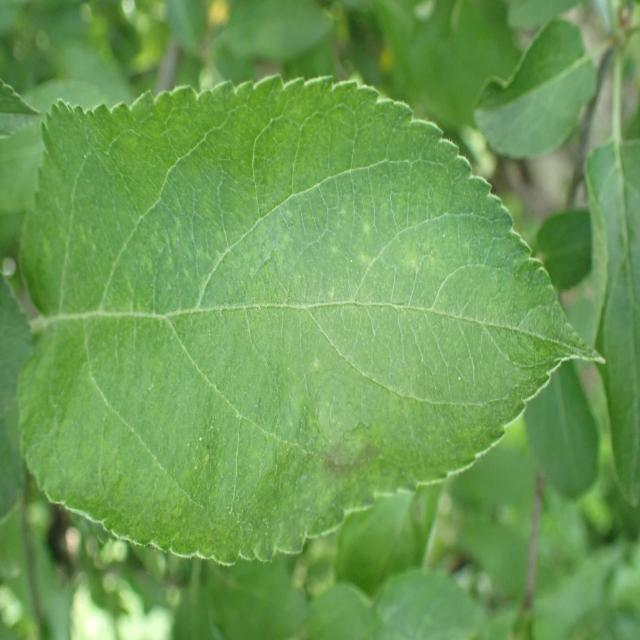scab: (45, 173, 575, 515)
